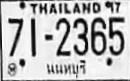1: (30, 18, 36, 56)
2: (55, 18, 70, 55)
3: (72, 17, 88, 55)
5: (108, 16, 124, 55)
6: (90, 16, 106, 55)
7: (7, 17, 23, 56)
NBI: (44, 58, 89, 78)
